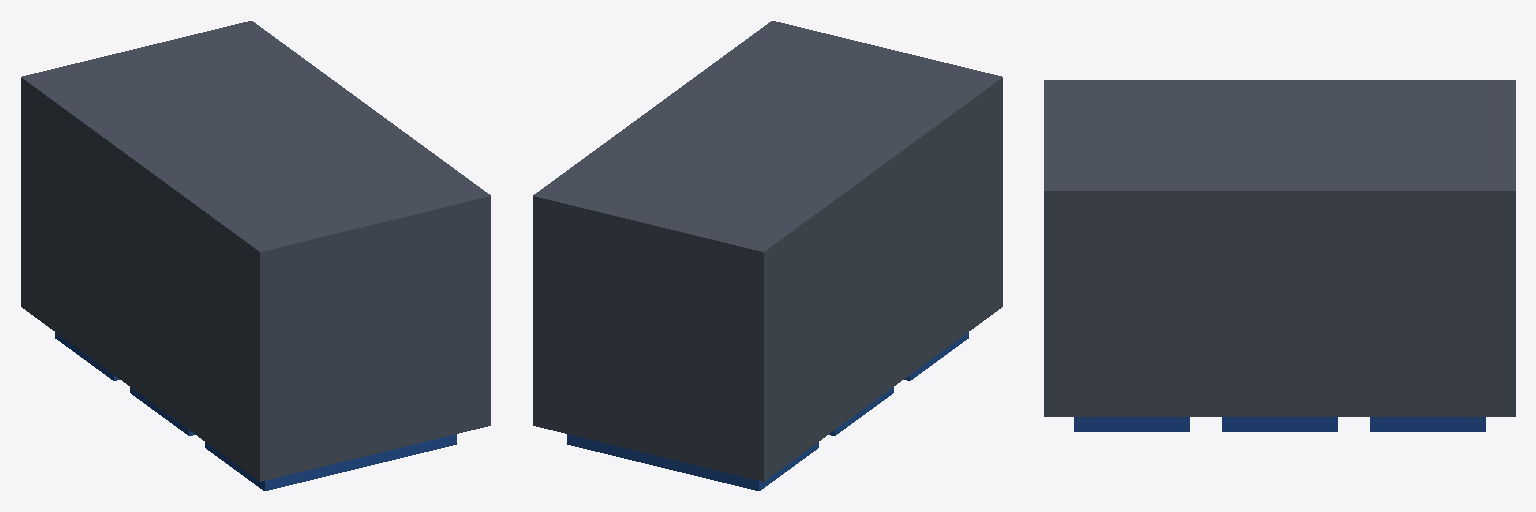
The robot description file, URDF, robot "cabinet_fixture":
<?xml version="1.0"?>
<robot name="cabinet_fixture">
  <material name="cabinet_gray">
    <color rgba="0.34 0.37 0.42 1"/>
  </material>
  <material name="drawer_blue">
    <color rgba="0.18 0.36 0.62 1"/>
  </material>

  <link name="base">
    <visual>
      <origin xyz="0 0.807 0"/>
      <geometry>
        <box size="0.899 1.614 0.854"/>
      </geometry>
      <material name="cabinet_gray"/>
    </visual>
  </link>

  <link name="drawer_1">
    <visual>
      <origin xyz="0 0 -0.48"/>
      <geometry>
        <box size="0.75 0.40 0.08"/>
      </geometry>
      <material name="drawer_blue"/>
    </visual>
  </link>
  <joint name="joint_1" type="prismatic">
    <parent link="base"/>
    <child link="drawer_1"/>
    <origin xyz="0 0.30 0"/>
    <axis xyz="0 0 -1"/>
    <limit lower="0" upper="0.25" effort="100" velocity="1"/>
  </joint>

  <link name="drawer_2">
    <visual>
      <origin xyz="0 0 -0.48"/>
      <geometry>
        <box size="0.75 0.40 0.08"/>
      </geometry>
      <material name="drawer_blue"/>
    </visual>
  </link>
  <joint name="joint_2" type="prismatic">
    <parent link="base"/>
    <child link="drawer_2"/>
    <origin xyz="0 0.807 0"/>
    <axis xyz="0 0 -1"/>
    <limit lower="0" upper="0.25" effort="100" velocity="1"/>
  </joint>

  <link name="drawer_3">
    <visual>
      <origin xyz="0 0 -0.48"/>
      <geometry>
        <box size="0.75 0.40 0.08"/>
      </geometry>
      <material name="drawer_blue"/>
    </visual>
  </link>
  <joint name="joint_3" type="prismatic">
    <parent link="base"/>
    <child link="drawer_3"/>
    <origin xyz="0 1.314 0"/>
    <axis xyz="0 0 -1"/>
    <limit lower="0" upper="0.25" effort="100" velocity="1"/>
  </joint>
</robot>

--- Facts derived from the render (not from the file) ---
Views: 3 orthographic renders of the robot side by side, from view 1: azimuth 30°, elevation 25°; view 2: azimuth 150°, elevation 25°; view 3: azimuth 270°, elevation 25°.
Robot: cabinet_fixture — 4 links, 3 joints (3 prismatic); root link base; default pose: all joints at 0.
Links seen in each view (by area): view 1: base, drawer_1; view 2: base, drawer_3; view 3: base, drawer_1, drawer_2, drawer_3.
Link boxes in pixels (x1=…): base: x1=21, y1=21, x2=490, y2=481; drawer_1: x1=205, y1=434, x2=456, y2=490; base: x1=533, y1=21, x2=1002, y2=481; drawer_3: x1=567, y1=434, x2=818, y2=490; base: x1=1044, y1=80, x2=1515, y2=416; drawer_1: x1=1074, y1=417, x2=1189, y2=431; drawer_2: x1=1222, y1=417, x2=1337, y2=431; drawer_3: x1=1370, y1=417, x2=1485, y2=431.
Bounding box of the posed robot: 0.899 × 1.61 × 0.947 m (x, y, z).
Geometry: primitives only (box / cylinder / sphere), no mesh files.
